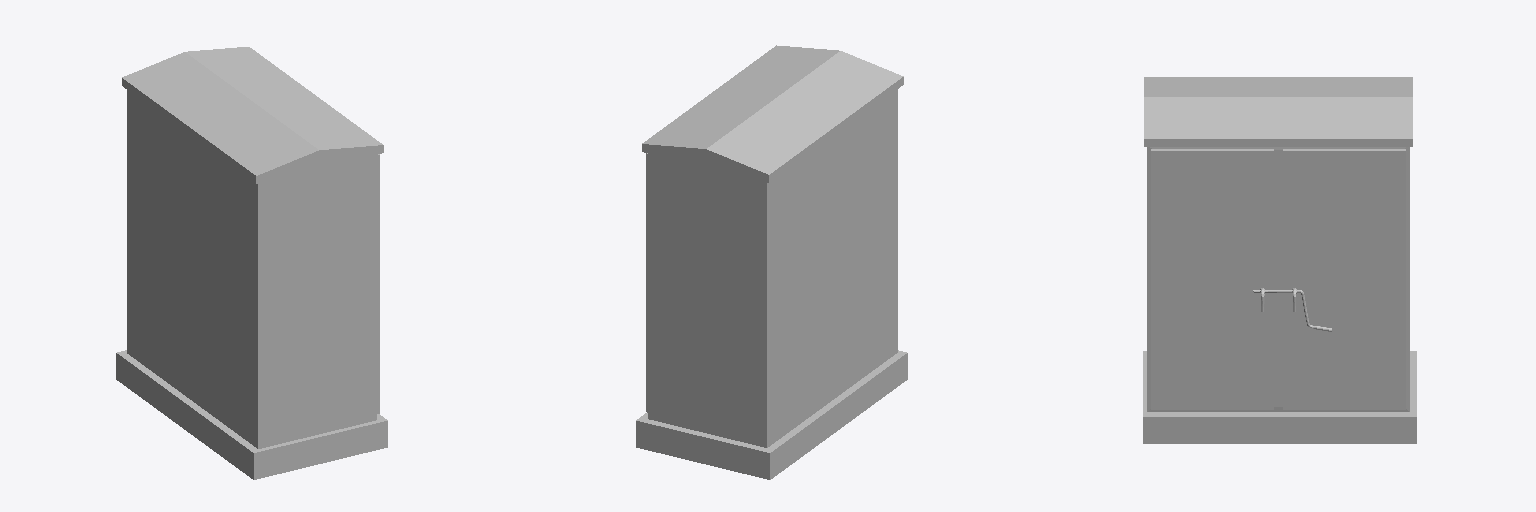
The picture shows the model from 3 angles: view 1: azimuth 30°, elevation 25°; view 2: azimuth 150°, elevation 25°; view 3: azimuth 270°, elevation 25°; orthographic projection.
Parts seen in each view (by area): view 1: 配电箱; view 2: 配电箱; view 3: 配电箱.
Boxes of the visible parts, box(x1,y1,x2,y2) form: 配电箱: box(116, 47, 387, 479); 配电箱: box(636, 45, 907, 479); 配电箱: box(1143, 77, 1416, 443).
Size of the model in its own units: 6.56 by 13.84 by 11.